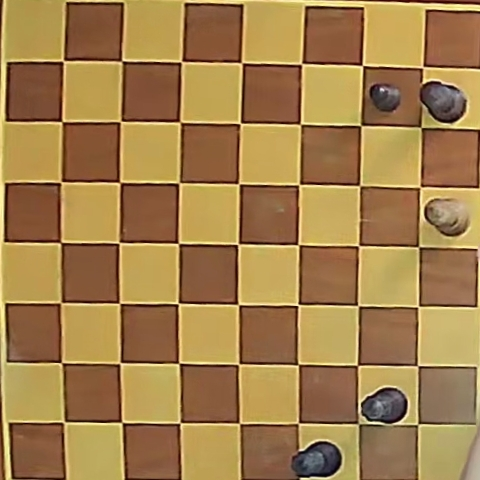black-king: (419, 81, 466, 123)
black-pawn: (370, 84, 401, 112)
black-queen: (291, 441, 342, 478), (361, 387, 408, 424)
white-king: (425, 198, 470, 236)
